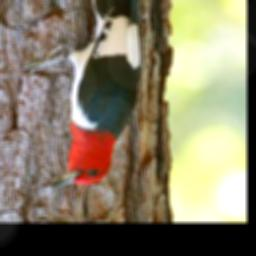Woodpecker: (22, 0, 143, 190)
